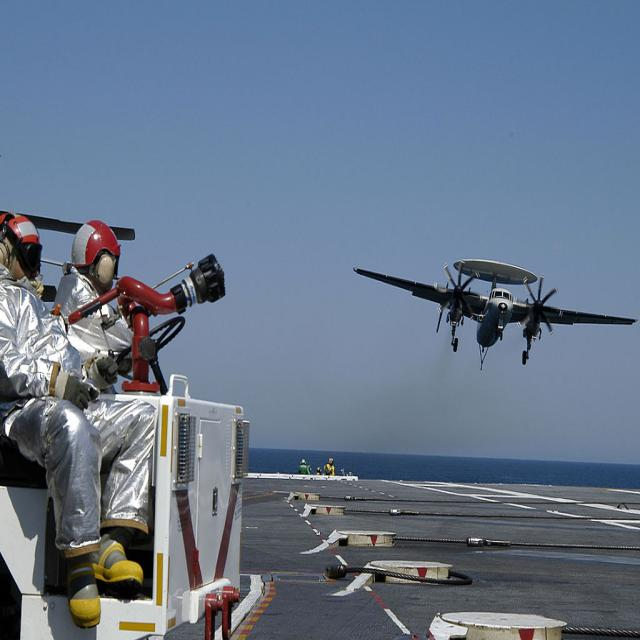MIL_Plane: (352, 207, 638, 320)
